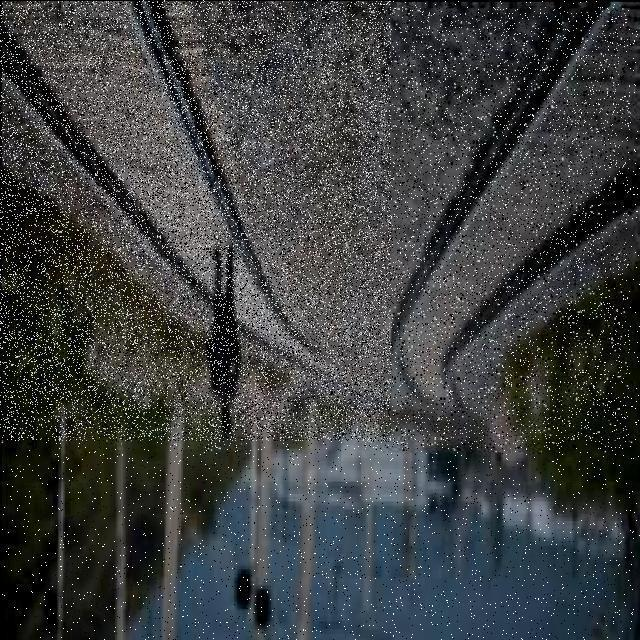rail: (1, 2, 392, 442), (364, 9, 631, 450)
